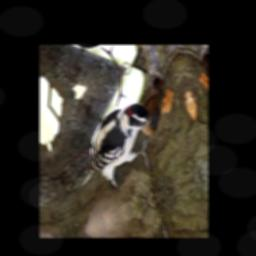Woodpecker: (69, 95, 165, 201)
